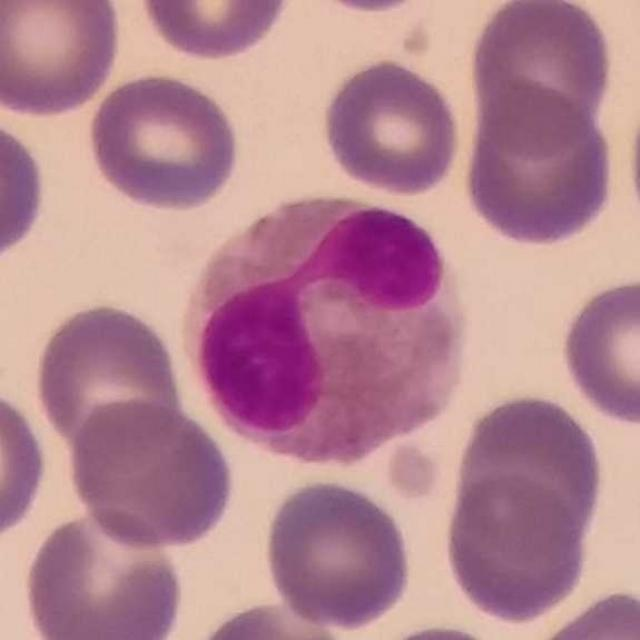Eosinophil: (181, 186, 465, 472)
RBC: (62, 396, 238, 553), (446, 388, 609, 556), (459, 84, 620, 250), (29, 298, 187, 456), (259, 475, 414, 632), (439, 470, 593, 626), (83, 68, 244, 214), (464, 0, 617, 152), (19, 505, 188, 640), (318, 56, 464, 198), (0, 0, 125, 119), (555, 272, 640, 430), (134, 0, 295, 63), (0, 383, 51, 546), (0, 109, 50, 271), (184, 597, 357, 640), (523, 584, 640, 640), (361, 620, 521, 640), (287, 0, 442, 16)
